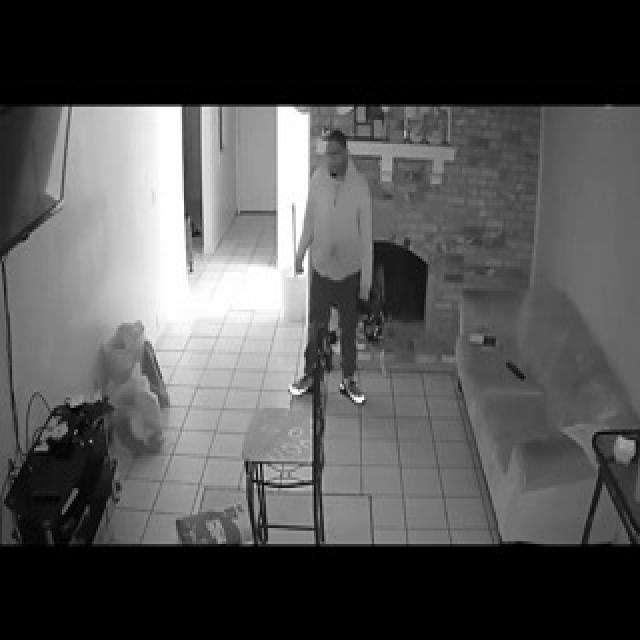thief: (302, 119, 373, 204)
